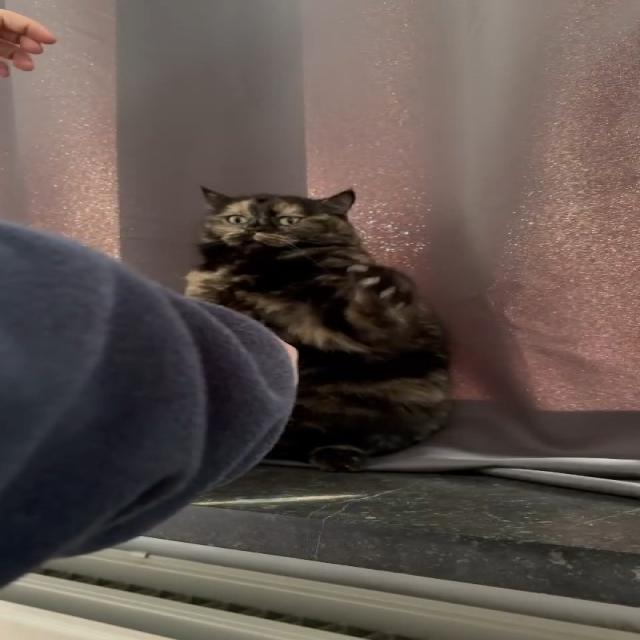authorized: (183, 184, 453, 473)
